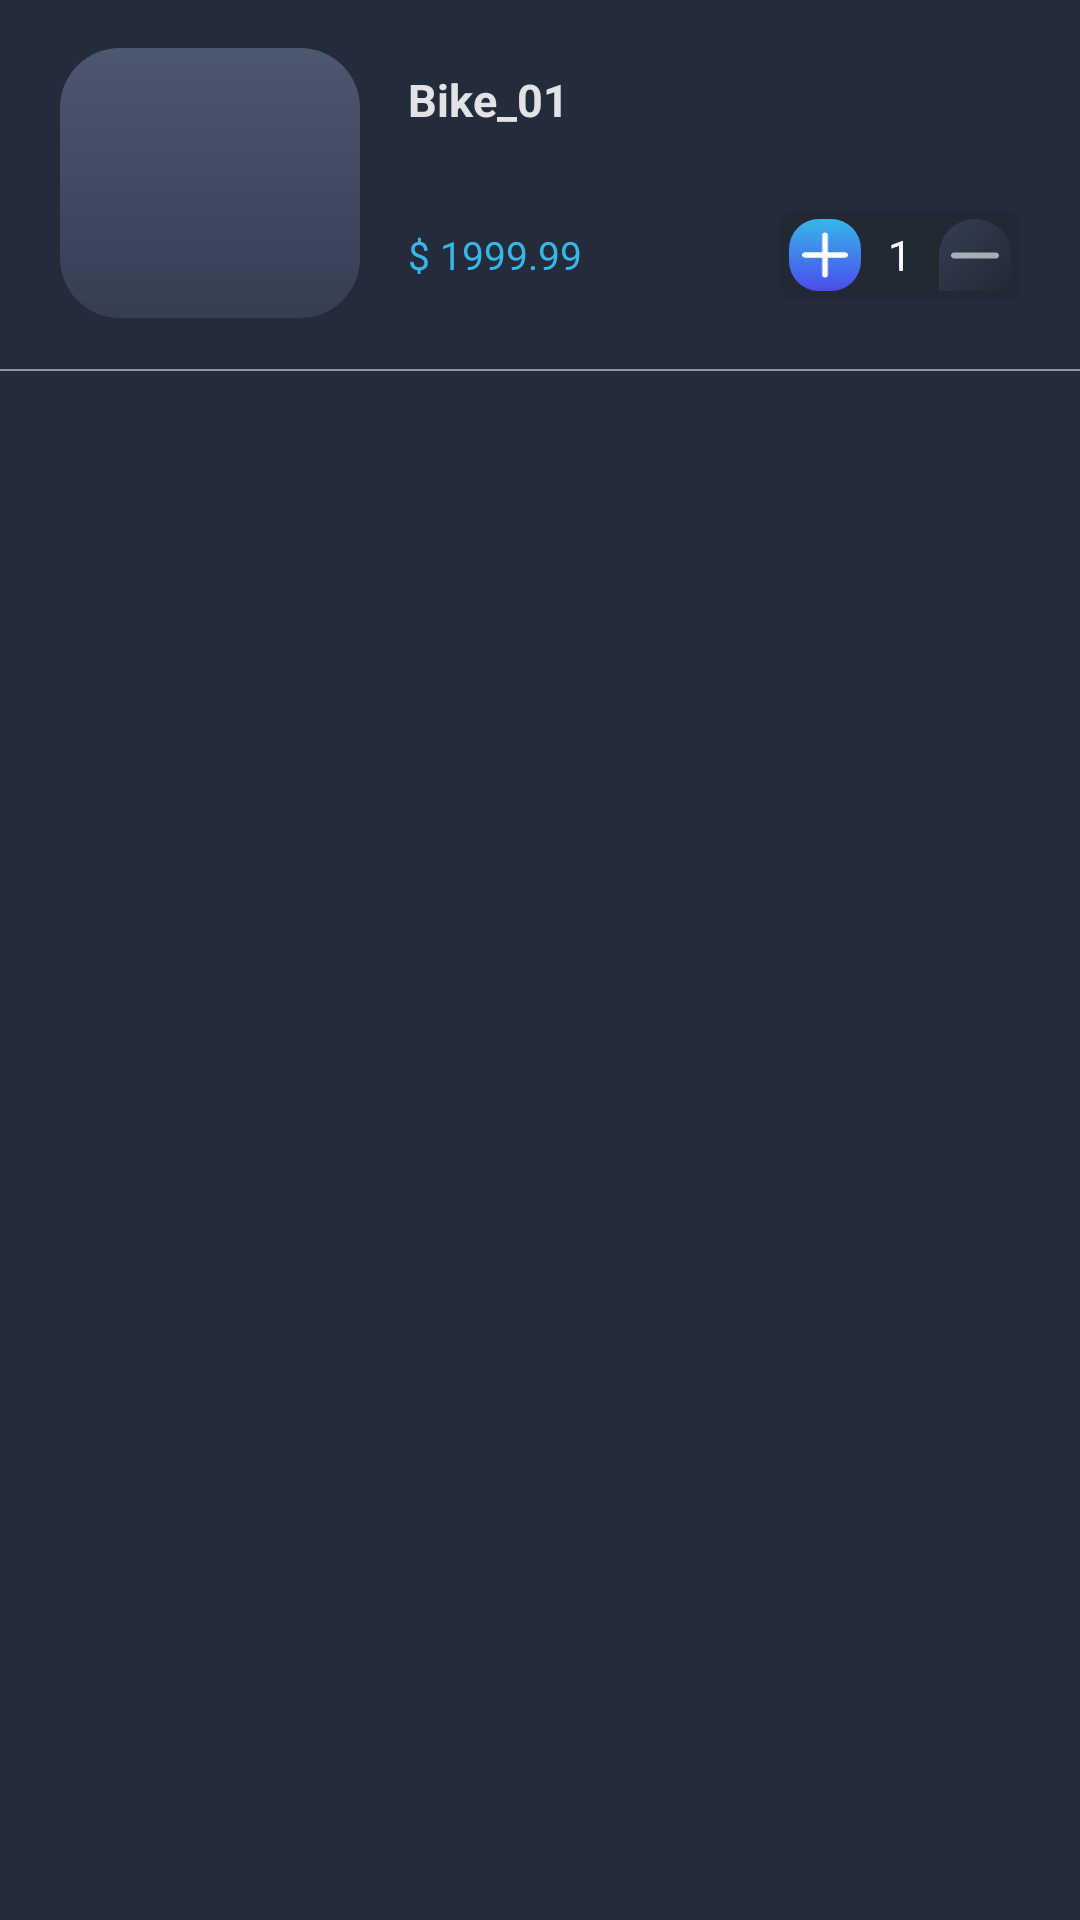

Icon bounding boxes for this 1080 × 1920 phone screenshot, format (x1, y1, x2, y2):
add: (789, 219, 861, 291)
